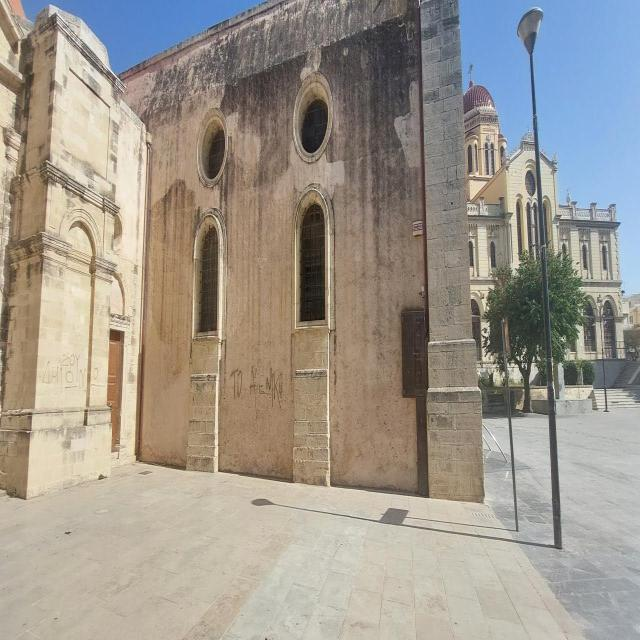Agia Aikaterini: (1, 2, 486, 503)
